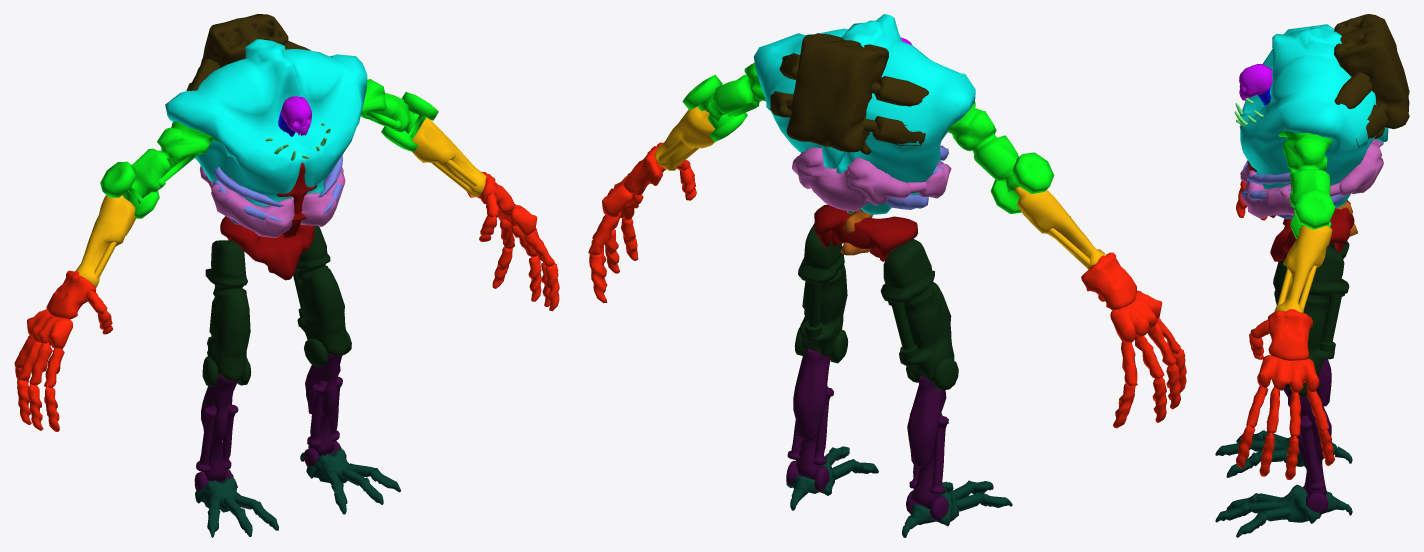
Rendered from BOSS_DEMOMENTO.FBX.
3 views of the same model, side by side, from view 1: azimuth 30°, elevation 25°; view 2: azimuth 150°, elevation 25°; view 3: azimuth 270°, elevation 25° (orthographic). The views are drawn at different scales.
Visible parts, largest first — view 1: PECHO_BOSS_LOW, PIERNA_BOSS_LOW, DEDOS_MANO_BOSS_LOW001, BRAZOS_BOSS_LOW, ESPINILLA_BOSS_LOW, DEDOS_MANO_BOSS_LOW002, ANTEBRAZO_BOSS_LOW, PIE_BOSS_LOW, FLOTADOR_BOSS_LOW001, LANZAMISILES_BOSS_LOW, CADERA_BOSS_LOW, COSTILLAS_BOSS_LOW001 (+2 smaller); view 2: PECHO_BOSS_LOW, PIERNA_BOSS_LOW, LANZAMISILES_BOSS_LOW, DEDOS_MANO_BOSS_LOW002, ESPINILLA_BOSS_LOW, BRAZOS_BOSS_LOW, FLOTADOR_BOSS_LOW001, ANTEBRAZO_BOSS_LOW, PIE_BOSS_LOW, CADERA_BOSS_LOW, DEDOS_MANO_BOSS_LOW001; view 3: PECHO_BOSS_LOW, DEDOS_MANO_BOSS_LOW001, LANZAMISILES_BOSS_LOW, PIE_BOSS_LOW, BRAZOS_BOSS_LOW, PIERNA_BOSS_LOW, DEDOS_MANO_BOSS_LOW002, FLOTADOR_BOSS_LOW001, ESPINILLA_BOSS_LOW, ANTEBRAZO_BOSS_LOW, CADERA_BOSS_LOW, COCO_BOSS_Low (+2 smaller).
Part boxes in pixels (bbox=[...]): PECHO_BOSS_LOW: bbox=[165, 39, 367, 206]; PIERNA_BOSS_LOW: bbox=[202, 225, 351, 386]; DEDOS_MANO_BOSS_LOW001: bbox=[16, 172, 559, 431]; BRAZOS_BOSS_LOW: bbox=[100, 79, 438, 218]; ESPINILLA_BOSS_LOW: bbox=[194, 352, 345, 490]; DEDOS_MANO_BOSS_LOW002: bbox=[14, 172, 556, 431]; ANTEBRAZO_BOSS_LOW: bbox=[75, 117, 486, 287]; PIE_BOSS_LOW: bbox=[195, 449, 400, 537]; FLOTADOR_BOSS_LOW001: bbox=[199, 166, 345, 237]; LANZAMISILES_BOSS_LOW: bbox=[186, 14, 310, 90]; CADERA_BOSS_LOW: bbox=[220, 216, 314, 280]; COSTILLAS_BOSS_LOW001: bbox=[213, 155, 342, 224]; PECHO_BOSS_LOW: bbox=[754, 14, 975, 214]; PIERNA_BOSS_LOW: bbox=[794, 224, 958, 389]; LANZAMISILES_BOSS_LOW: bbox=[766, 33, 929, 154]; DEDOS_MANO_BOSS_LOW002: bbox=[588, 143, 1186, 428]; ESPINILLA_BOSS_LOW: bbox=[786, 348, 948, 520]; BRAZOS_BOSS_LOW: bbox=[682, 63, 1054, 213]; FLOTADOR_BOSS_LOW001: bbox=[792, 147, 951, 211]; ANTEBRAZO_BOSS_LOW: bbox=[654, 106, 1105, 269]; PIE_BOSS_LOW: bbox=[786, 446, 1012, 537]; CADERA_BOSS_LOW: bbox=[814, 204, 917, 261]; DEDOS_MANO_BOSS_LOW001: bbox=[590, 142, 1186, 427]; PECHO_BOSS_LOW: bbox=[1239, 24, 1388, 208]; DEDOS_MANO_BOSS_LOW001: bbox=[1236, 180, 1332, 479]; LANZAMISILES_BOSS_LOW: bbox=[1334, 14, 1409, 146]; PIE_BOSS_LOW: bbox=[1215, 430, 1352, 537]; BRAZOS_BOSS_LOW: bbox=[1278, 131, 1335, 238]; PIERNA_BOSS_LOW: bbox=[1273, 241, 1349, 396]; DEDOS_MANO_BOSS_LOW002: bbox=[1237, 181, 1334, 478]; FLOTADOR_BOSS_LOW001: bbox=[1240, 139, 1383, 218]; ESPINILLA_BOSS_LOW: bbox=[1283, 359, 1331, 514]; ANTEBRAZO_BOSS_LOW: bbox=[1274, 225, 1332, 312]; CADERA_BOSS_LOW: bbox=[1270, 200, 1354, 261]; COCO_BOSS_Low: bbox=[1239, 64, 1272, 100].
Size of the model in its own units: 5.64 by 4.63 by 1.75.
